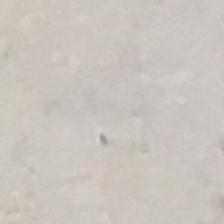Non_Crack: (14, 14, 194, 182)
